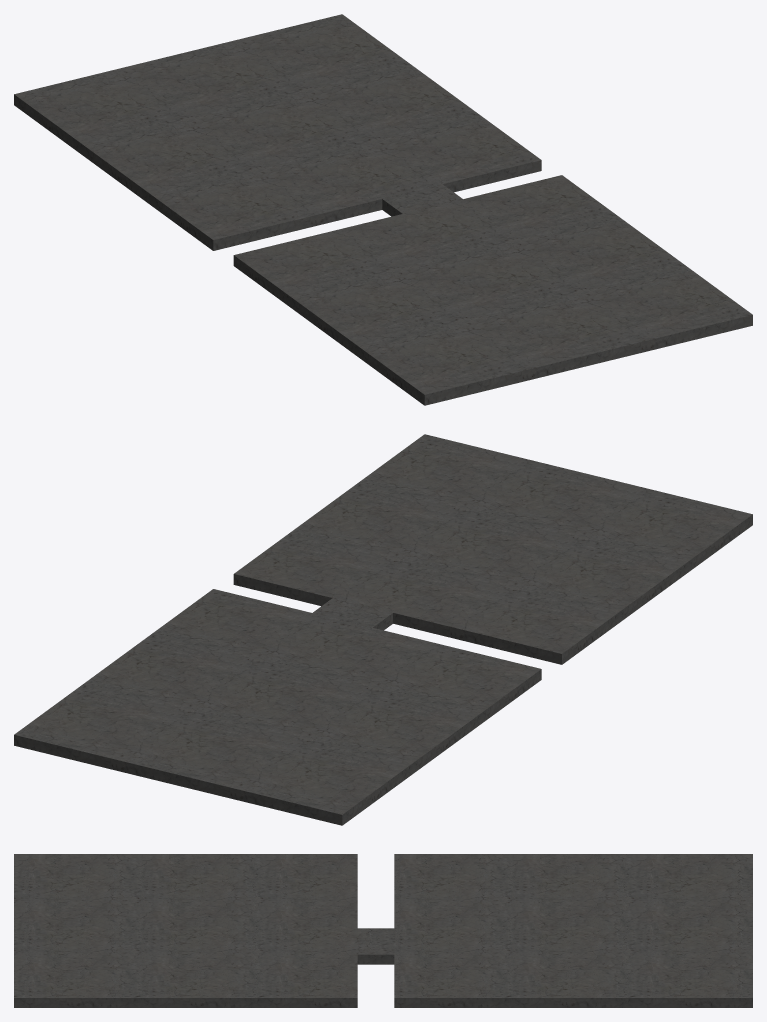
File: A4_Roof.FBX
3 renders of one model, top to bottom at view 1: azimuth 30°, elevation 25°; view 2: azimuth 150°, elevation 25°; view 3: azimuth 270°, elevation 25°, orthographic. The views are drawn at different scales.
Parts seen in each view (by area): view 1: A3_Roof; view 2: A3_Roof; view 3: A3_Roof.
Boxes of the visible parts, left/top/right/bottom form: A3_Roof: left=14, top=14, right=752, bottom=405; A3_Roof: left=14, top=434, right=752, bottom=825; A3_Roof: left=14, top=854, right=752, bottom=1007.
Size of the model in its own units: 1655 by 52.64 by 3586.
